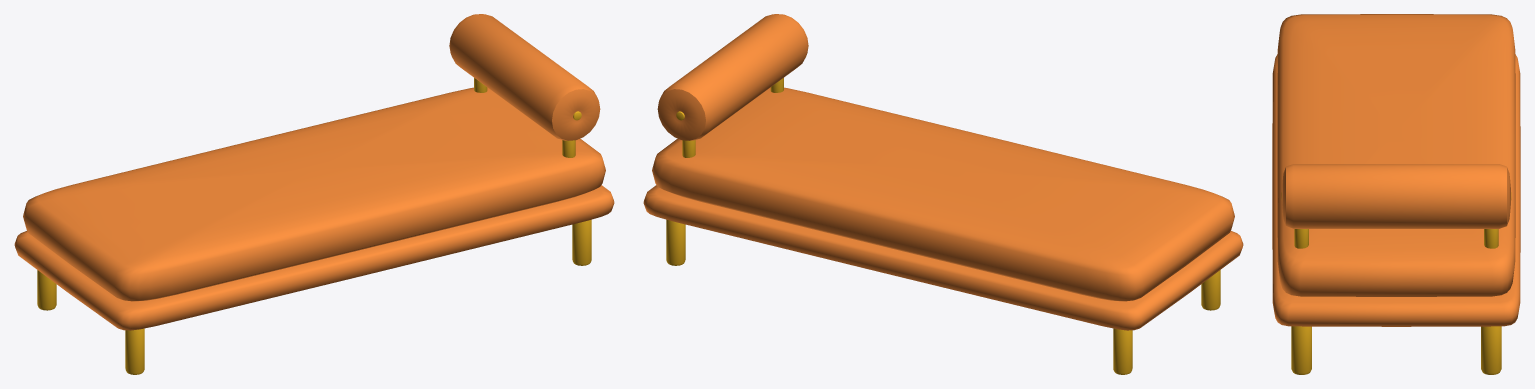
File: diva_rolo_laranja.glb
3 renders of one model, left to right at view 1: azimuth 30°, elevation 25°; view 2: azimuth 150°, elevation 25°; view 3: azimuth 270°, elevation 25°, orthographic. The views are drawn at different scales.
Visible parts, largest first — view 1: diva_rolo_laranja; view 2: diva_rolo_laranja; view 3: diva_rolo_laranja.
Boxes of the visible parts, x1=… form: diva_rolo_laranja: x1=14, y1=14, x2=614, y2=374; diva_rolo_laranja: x1=643, y1=14, x2=1243, y2=374; diva_rolo_laranja: x1=1272, y1=14, x2=1520, y2=374.
Bounding box in the file's own units: 1.9 × 0.67 × 0.76.
1 material, 1 textured.
